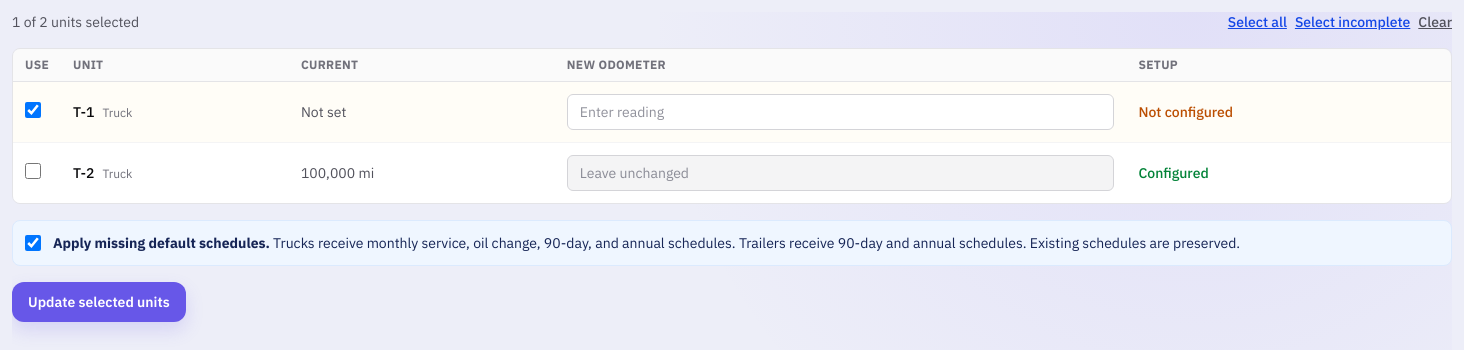
Test case: MaintenanceSetupForm › preselects incomplete units and supports efficient bulk selection
expect the checkbox named "Select T-1" is checked: met, box [25,102,41,118]
expect the checkbox named "Select T-2" is not checked: met, box [25,162,41,178]
Click the button "Select all" at (1257, 22), box [1228,12,1287,32]
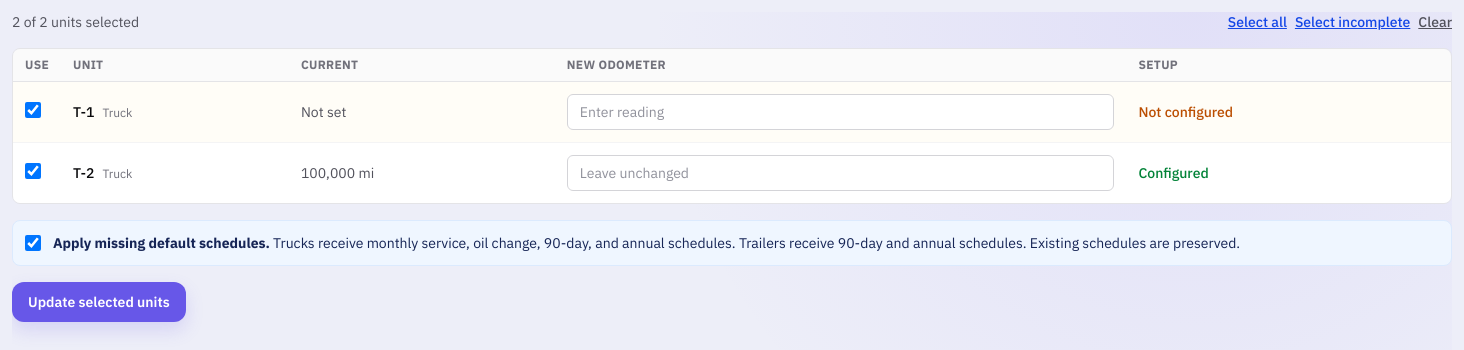
expect the checkbox named "Select T-2" is checked: met, box [25,162,41,178]
Click the button "Clear" at (1435, 22), box [1418,12,1452,32]
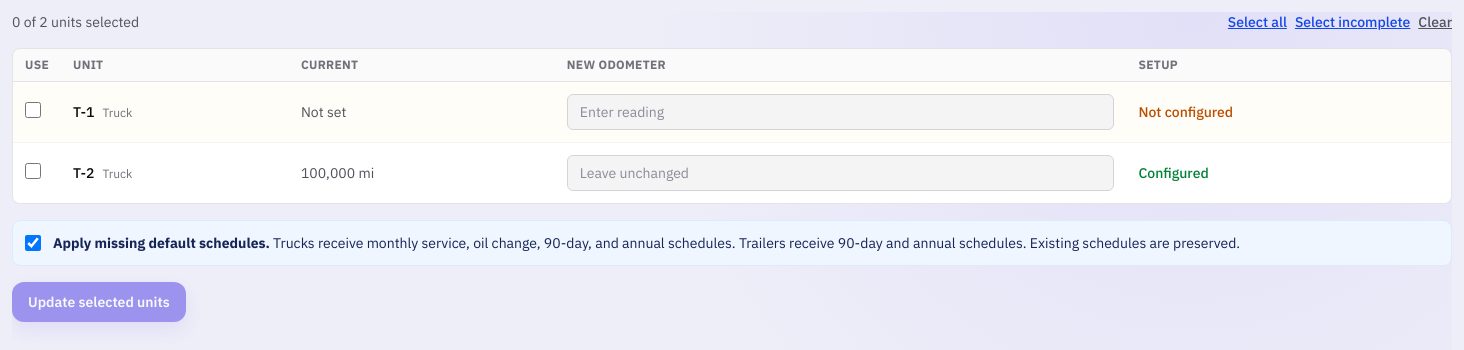
expect the button "Update selected units" is disabled: met, box [12,282,186,322]
